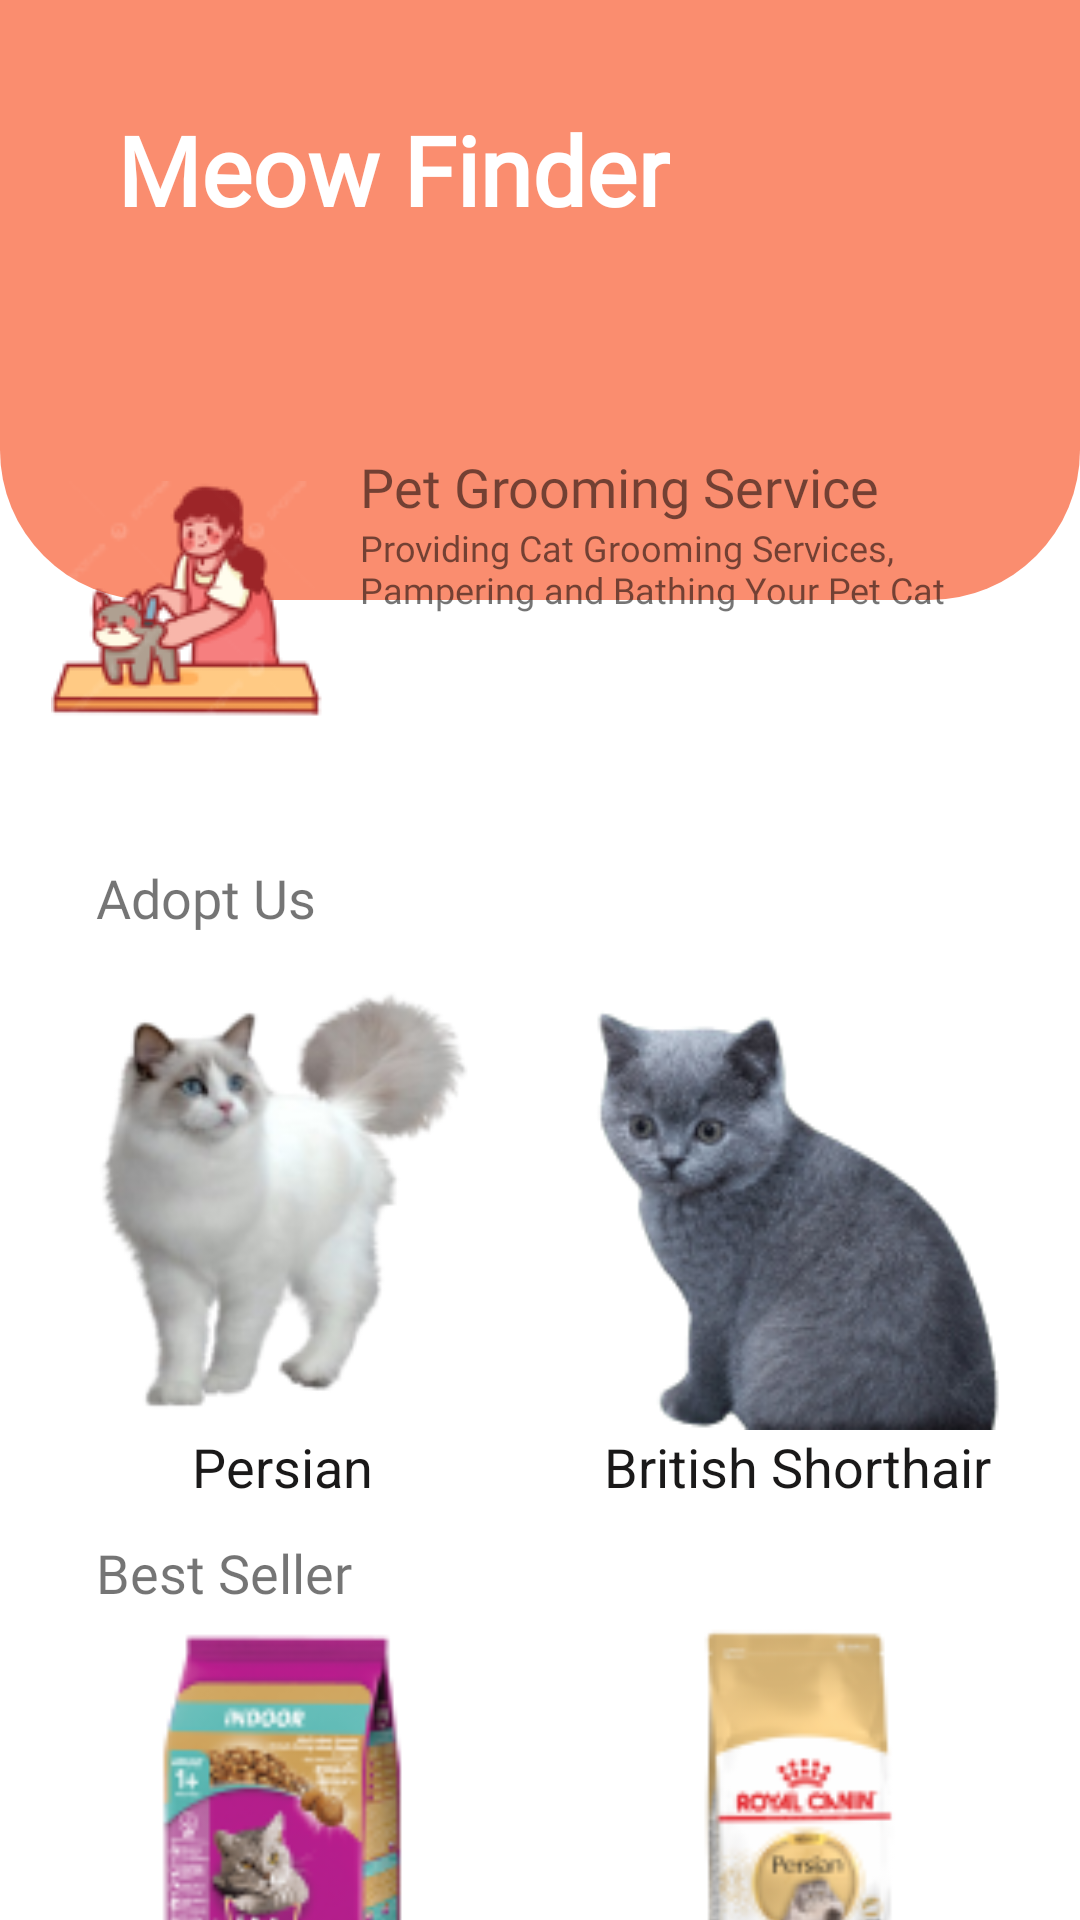

Screen size 1080*1920. Icon name, then its center in pixels as [x,y]:
growming: [187,599]
